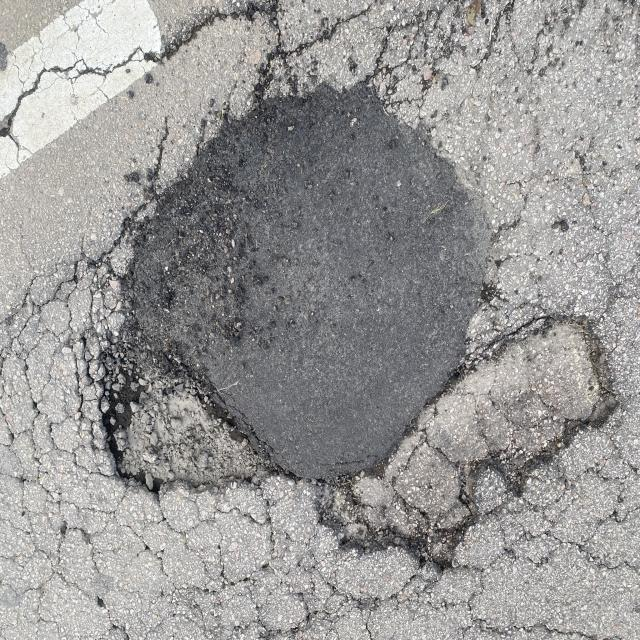Pothole: (97, 293, 640, 640)
